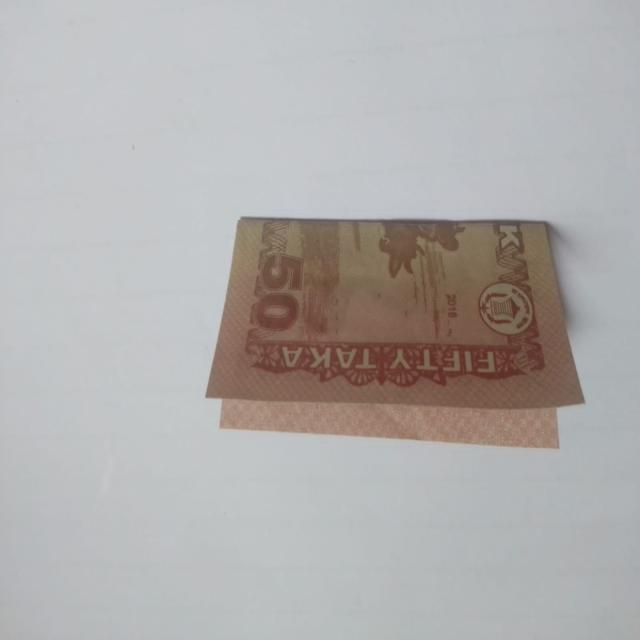Taka: (215, 200, 591, 432)
